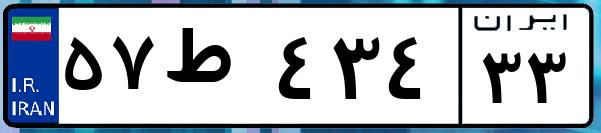3: (330, 28, 385, 110), (475, 38, 525, 113), (525, 38, 570, 115)
4: (270, 28, 330, 110), (385, 28, 445, 110)
5: (57, 26, 110, 100)
7: (110, 28, 158, 98)
ط: (158, 20, 270, 120)
